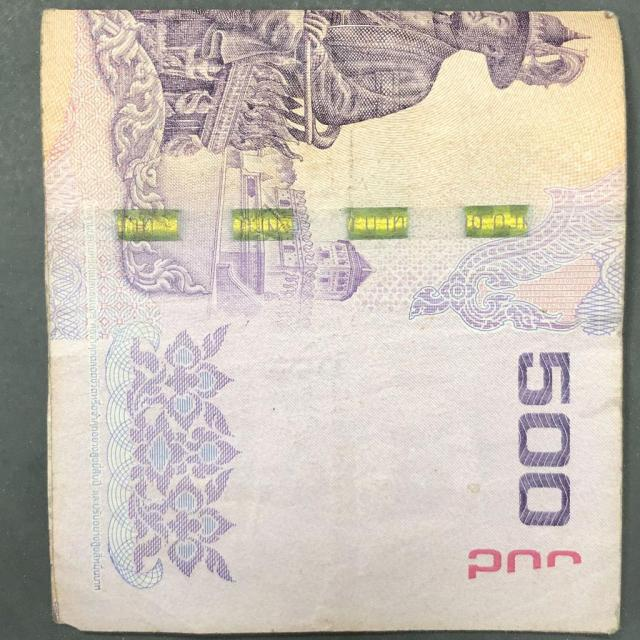THAI500: (40, 9, 626, 634)
